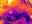Hotspot: (8, 0, 19, 6), (0, 8, 8, 15), (0, 0, 8, 5), (29, 0, 31, 5), (0, 20, 2, 23), (30, 14, 31, 19)
